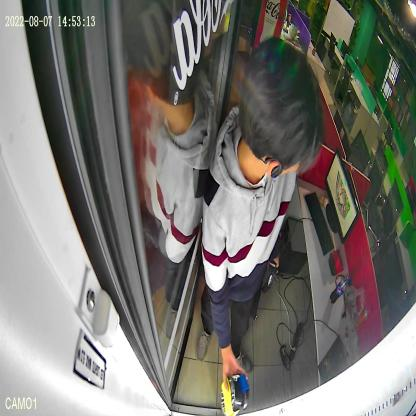blue: (233, 374, 250, 410)
yellow: (220, 375, 240, 416)
